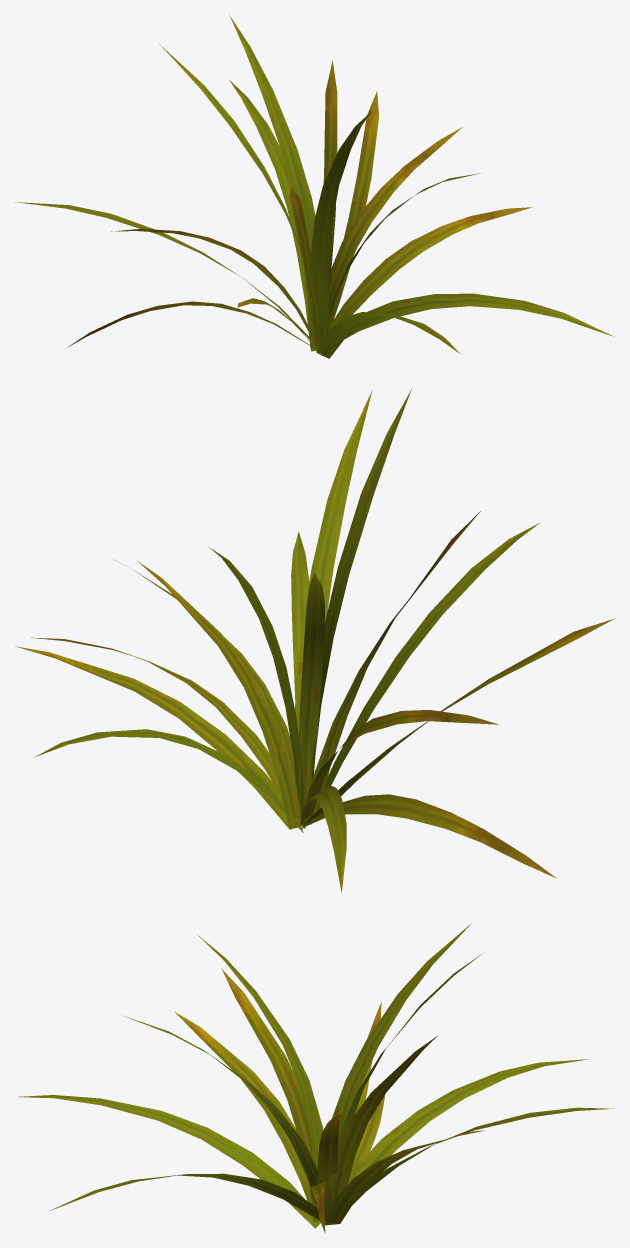
The model's file is Grass_plant_var1.fbx.
The picture shows the model from 3 angles, top to bottom: view 1: azimuth 30°, elevation 25°; view 2: azimuth 150°, elevation 25°; view 3: azimuth 270°, elevation 25°; orthographic projection. The views are drawn at different scales.
Parts seen in each view (by area): view 1: Grass_plant_var1_LOD0; view 2: Grass_plant_var1_LOD0; view 3: Grass_plant_var1_LOD0.
Boxes of the visible parts, box(x1,y1,x2,y2) form: Grass_plant_var1_LOD0: box(15, 15, 613, 358); Grass_plant_var1_LOD0: box(15, 389, 614, 892); Grass_plant_var1_LOD0: box(17, 923, 614, 1232).
Size of what is drawn, in the model's own units: 50.84 by 32.9 by 62.82.
